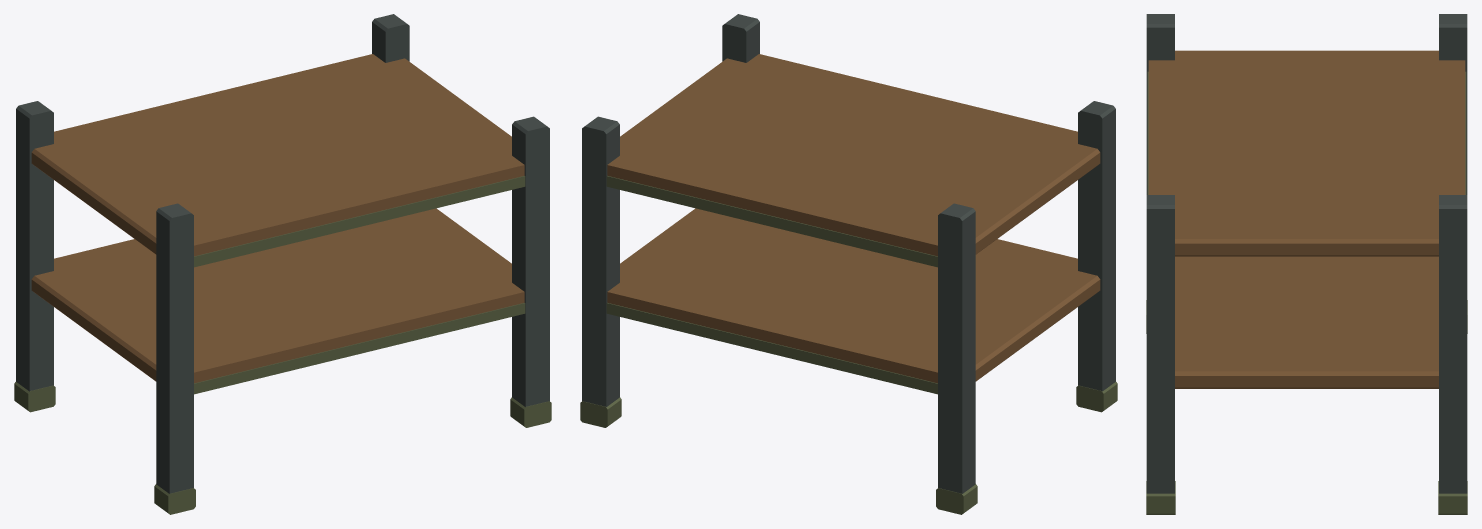
File: Shelf.gltf
3 renders of one model, left to right at view 1: azimuth 30°, elevation 25°; view 2: azimuth 150°, elevation 25°; view 3: azimuth 270°, elevation 25°, orthographic. The views are drawn at different scales.
Parts seen in each view (by area): view 1: Shelf; view 2: Shelf; view 3: Shelf.
Part boxes in pixels (x1,y1,x2,y2): Shelf: (14,14,551,514); Shelf: (580,14,1117,514); Shelf: (1146,14,1467,514).
Size of the model in its own units: 0.948 by 0.7 by 0.66.
